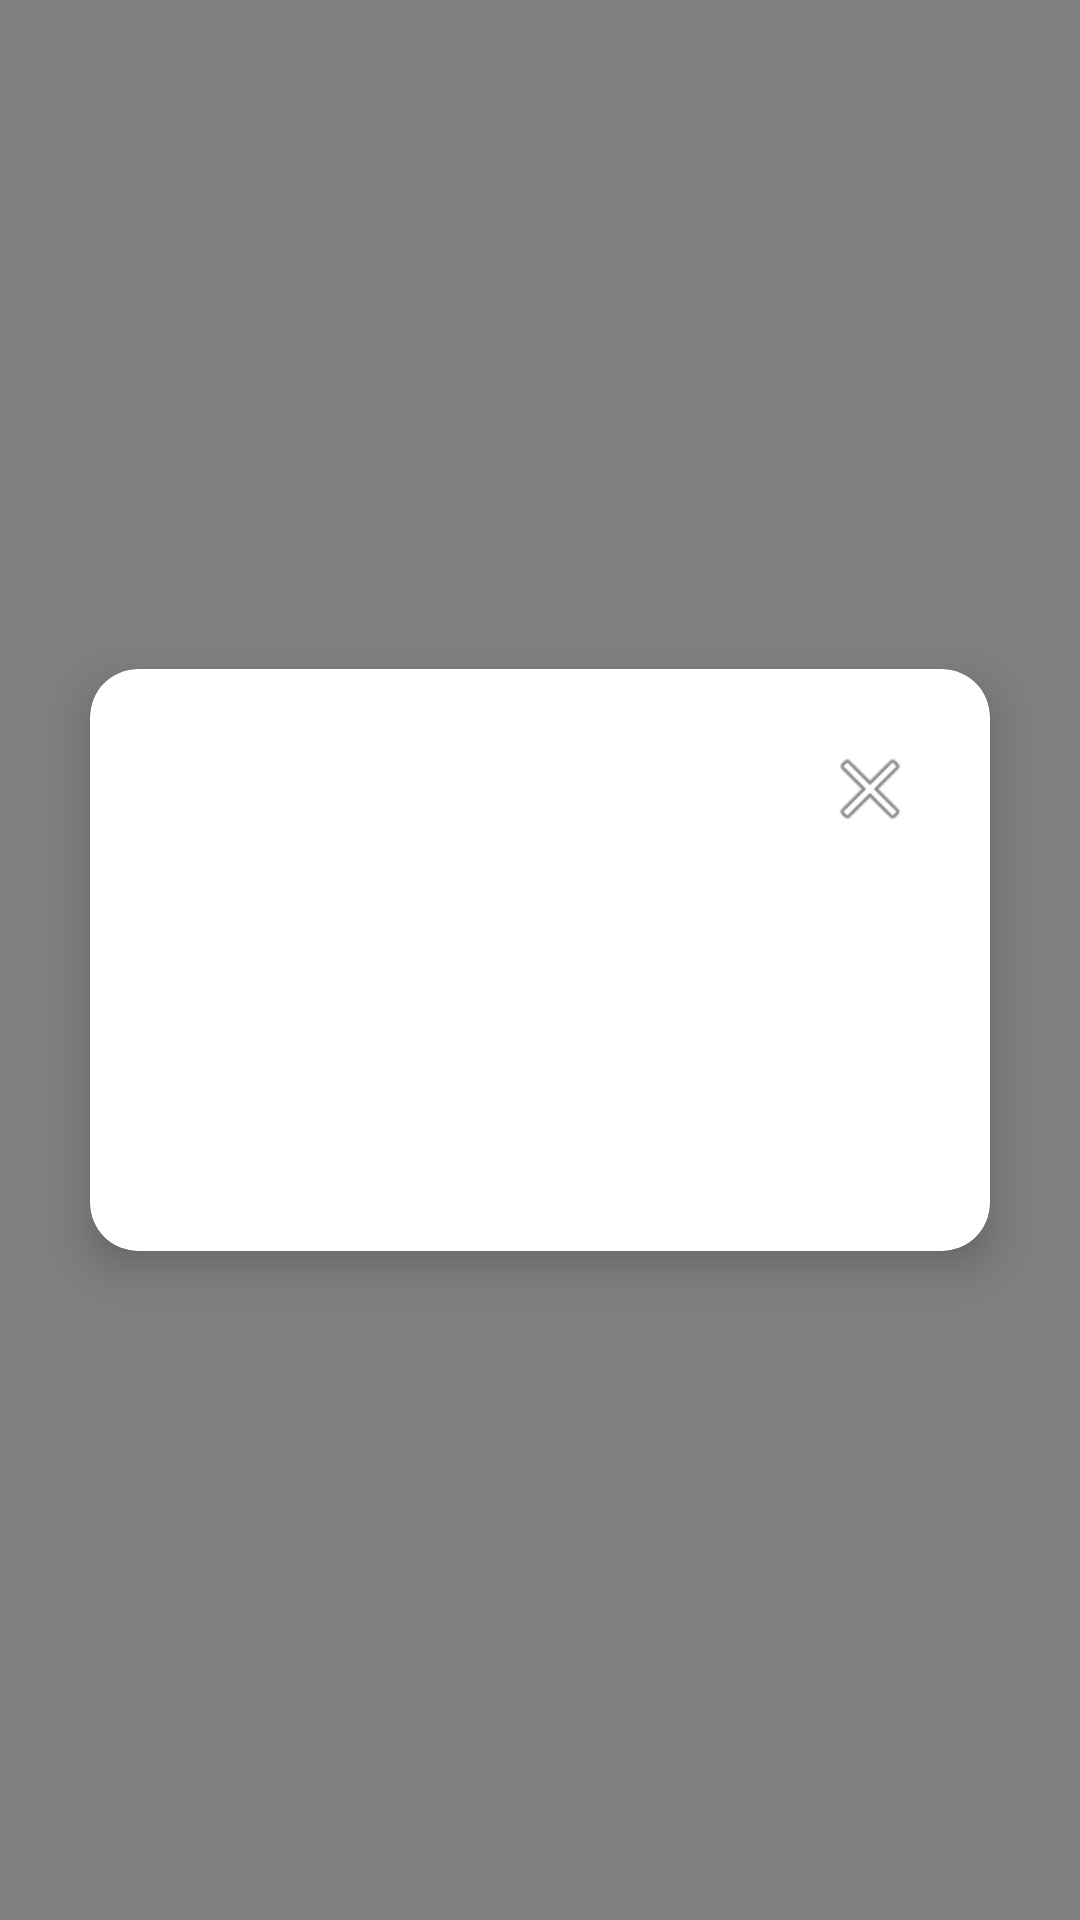

Point at icon controls on the screen. Image size 1080x1920, points as (x,y).
Close: (870,789)
